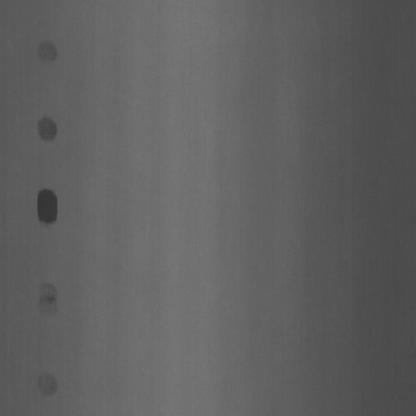oil_spot: (35, 184, 61, 231), (33, 282, 60, 319), (35, 364, 59, 401), (37, 111, 60, 145), (37, 38, 57, 64)
